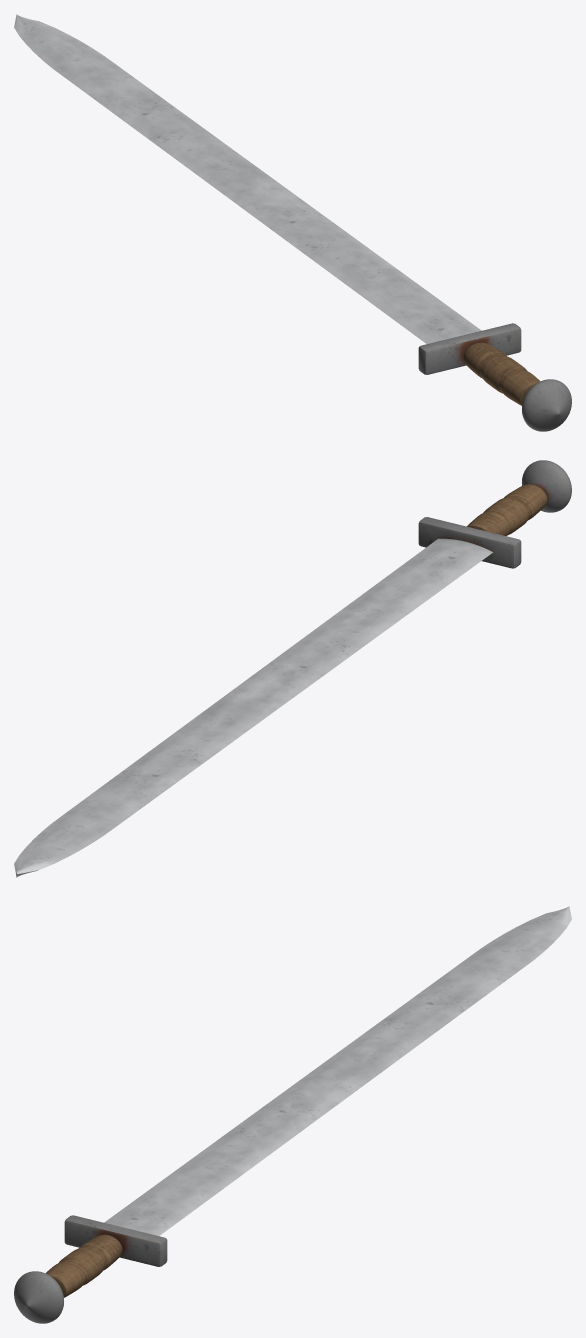
File: heruli_spatha.glb
3 renders of one model, top to bottom at view 1: azimuth 30°, elevation 25°; view 2: azimuth 150°, elevation 25°; view 3: azimuth 330°, elevation 25°, orthographic.
Visible parts, largest first — view 1: heruli_spatha; view 2: heruli_spatha; view 3: heruli_spatha.
Boxes of the visible parts, box(x1,y1,x2,y2) form: heruli_spatha: box(14, 14, 571, 431); heruli_spatha: box(14, 460, 571, 877); heruli_spatha: box(14, 906, 571, 1323).
Size of the model in its own units: 0.095 by 0.0467 by 0.9159.
1 material, 1 textured.
